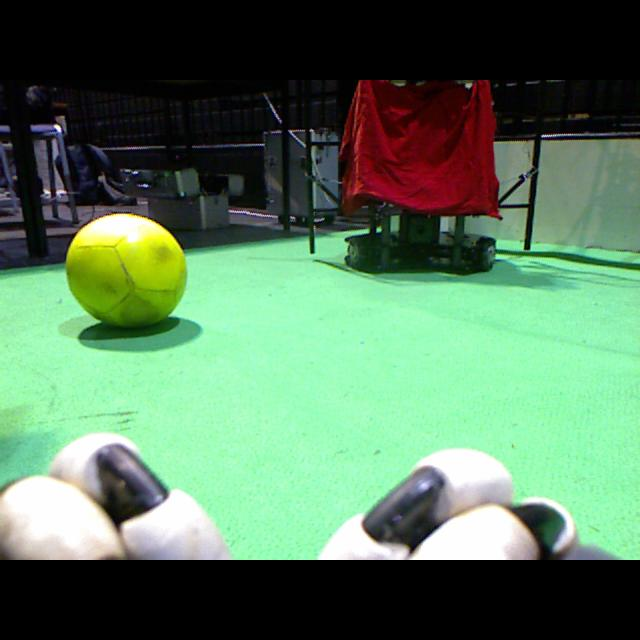ball: (66, 214, 187, 328)
